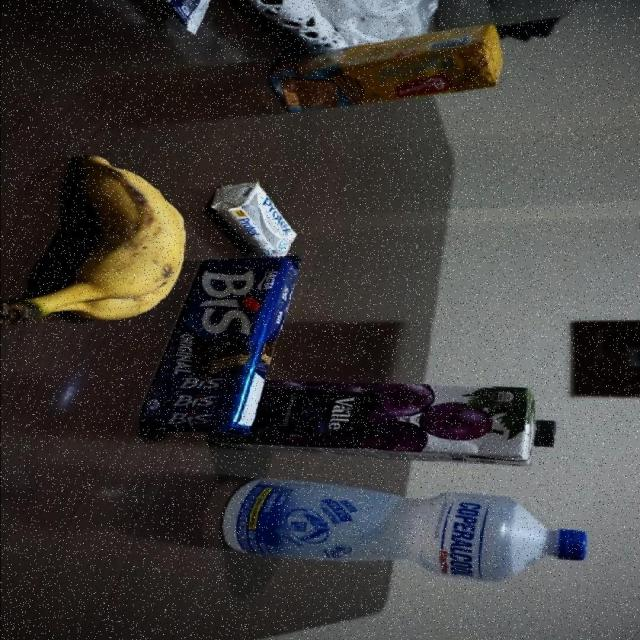AlcoholBottle: (218, 477, 588, 584)
Banana: (0, 149, 188, 327)
Cracker: (266, 22, 504, 114)
Popcorn: (150, 0, 218, 36)
Soap: (208, 180, 298, 260)
